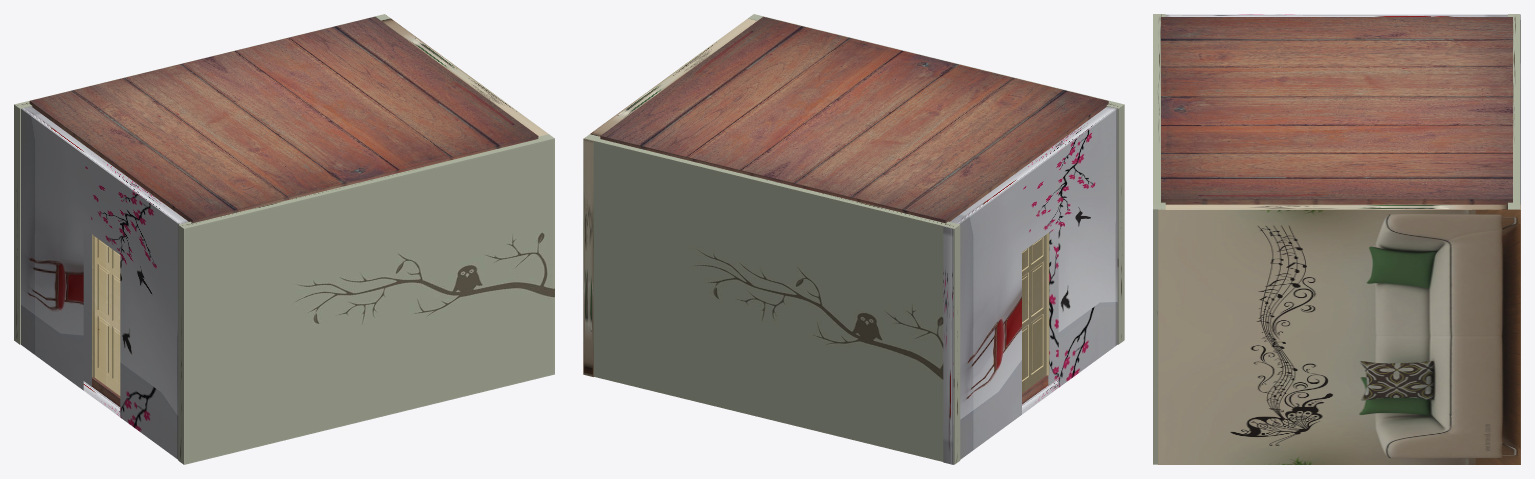
The model's file is house (2).FBX.
The picture shows the model from 3 angles, left to right: view 1: azimuth 30°, elevation 25°; view 2: azimuth 150°, elevation 25°; view 3: azimuth 270°, elevation 25°; orthographic projection. The views are drawn at different scales.
Parts seen in each view (by area): view 1: Box002; view 2: Box002; view 3: Box002.
Boxes of the visible parts, x1,y1,x2,y2 form: Box002: (14, 14, 554, 464); Box002: (583, 14, 1124, 464); Box002: (1153, 14, 1520, 464).
Size of the model in its own units: 250 by 155 by 198.
5 materials, 5 textured.
